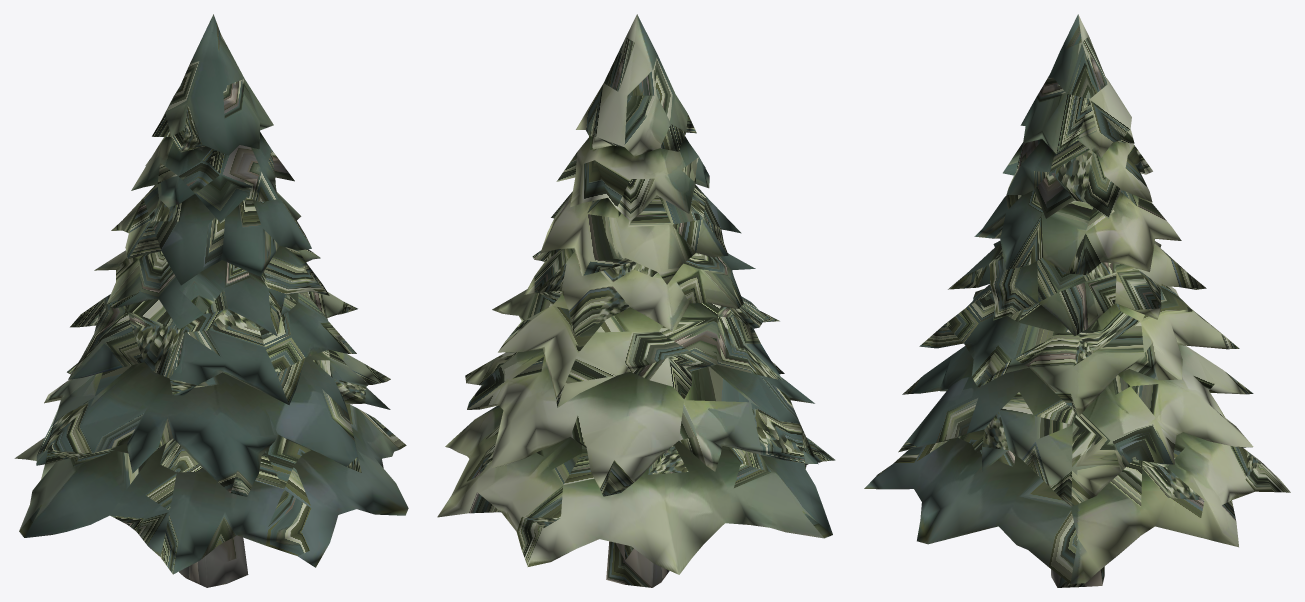
File: spruce.glb
3 renders of one model, left to right at view 1: azimuth 30°, elevation 25°; view 2: azimuth 150°, elevation 25°; view 3: azimuth 270°, elevation 25°, orthographic.
Parts seen in each view (by area): view 1: tripo_node_782444f3-3bb6-4bf9-bd3a-0fbaf9d78fb7; view 2: tripo_node_782444f3-3bb6-4bf9-bd3a-0fbaf9d78fb7; view 3: tripo_node_782444f3-3bb6-4bf9-bd3a-0fbaf9d78fb7.
Part boxes in pixels (x1,y1,x2,y2): tripo_node_782444f3-3bb6-4bf9-bd3a-0fbaf9d78fb7: (14, 14, 408, 587); tripo_node_782444f3-3bb6-4bf9-bd3a-0fbaf9d78fb7: (437, 14, 835, 587); tripo_node_782444f3-3bb6-4bf9-bd3a-0fbaf9d78fb7: (864, 14, 1290, 587).
Bounding box in the file's own units: 0.7128 × 0.9993 × 0.6871.
1 material, 1 textured.
